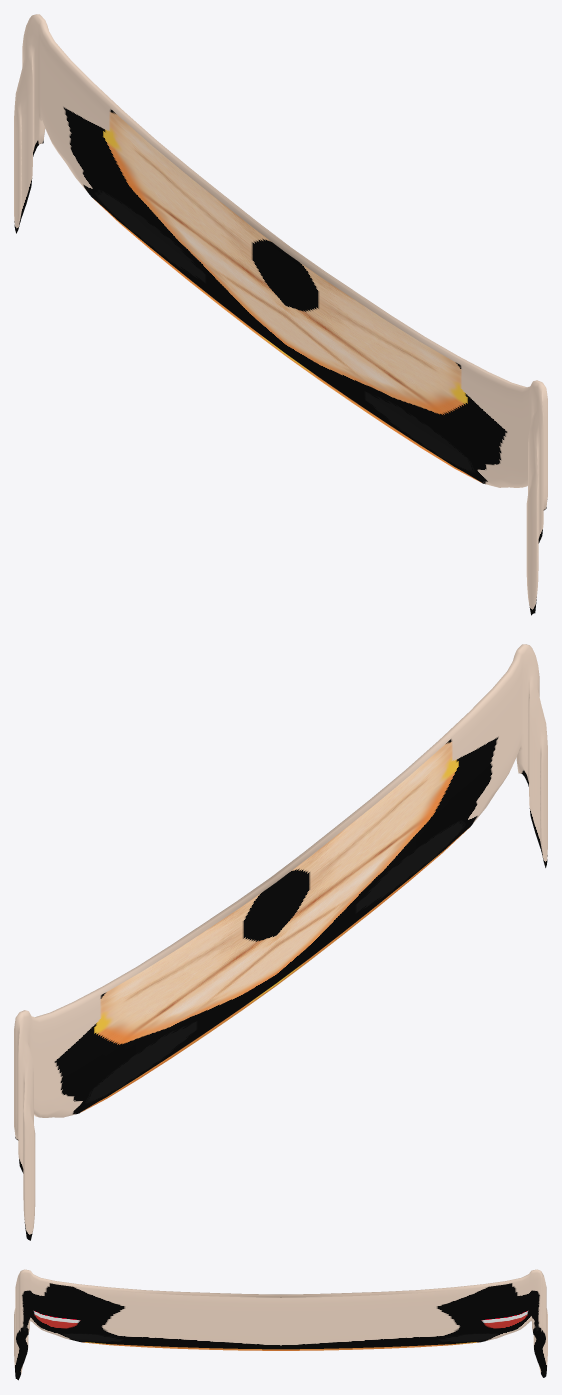
The model's file is banner_test1.glb.
3 views of the same model, one above another, from view 1: azimuth 30°, elevation 25°; view 2: azimuth 150°, elevation 25°; view 3: azimuth 270°, elevation 25° (orthographic). The views are drawn at different scales.
Visible parts, largest first — view 1: longbanner1; view 2: longbanner1; view 3: longbanner1.
Boxes of the visible parts, bbox=[...] form: longbanner1: bbox=[14, 14, 547, 615]; longbanner1: bbox=[14, 644, 547, 1240]; longbanner1: bbox=[14, 1269, 547, 1380].
Bounding box in the file's own units: 0.00746 × 0.0798 × 0.3374.
1 material, 1 textured.
